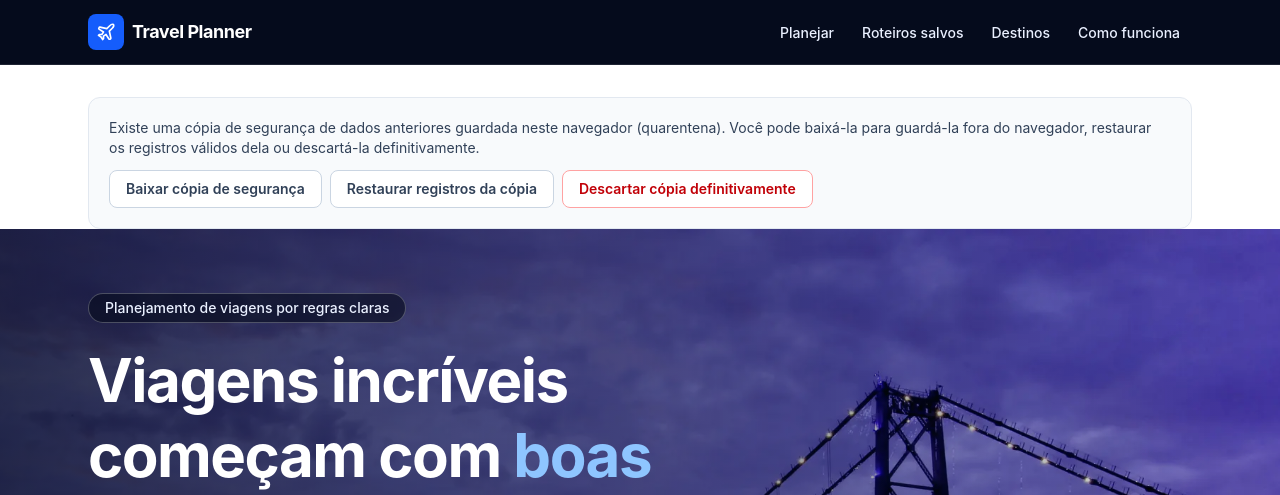
Test case: AUD-02 — mensagens correspondentes ao estado real › restauração com confirmação indisponível não afirma preservação após a escrita efetiva
The width and height of the screenshot is (1280, 495).
Click the button "Restaurar registros da cópia" at (442, 189), box [330,170,554,208]
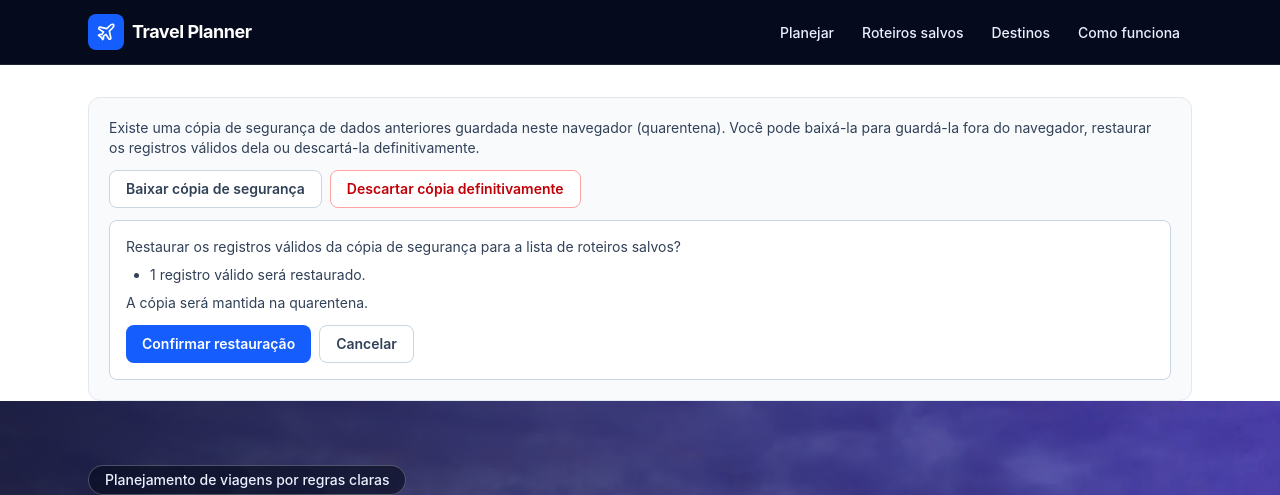
Click the button "Confirmar restauração" at (219, 344), box [126,325,311,363]
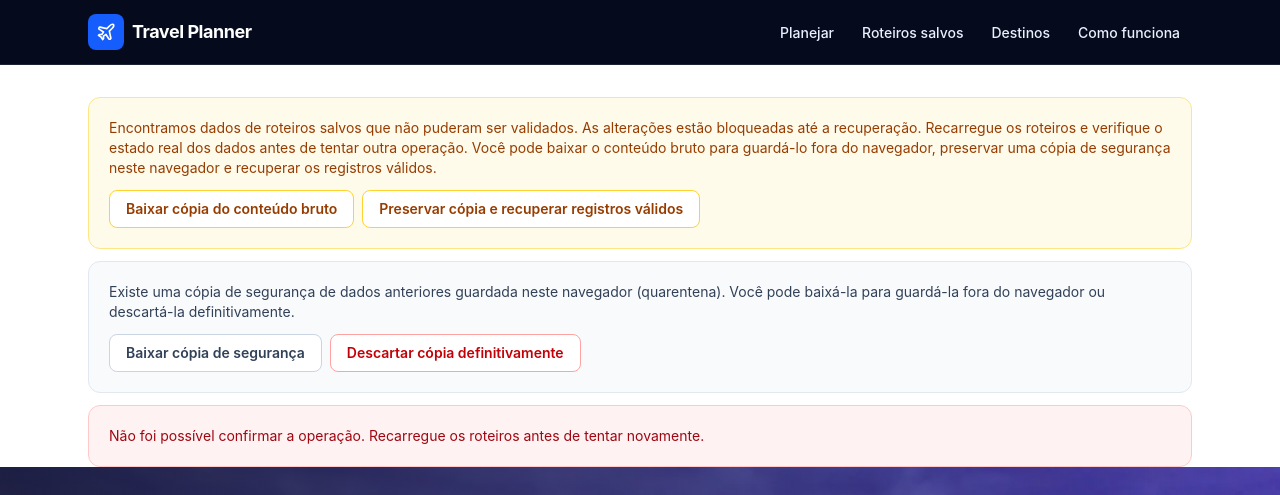
expect the text "Não foi possível confirmar a operação" is shown: met, box [109,427,704,444]
expect the text "não puderam ser validados" is shown: met, box [109,119,1170,176]
